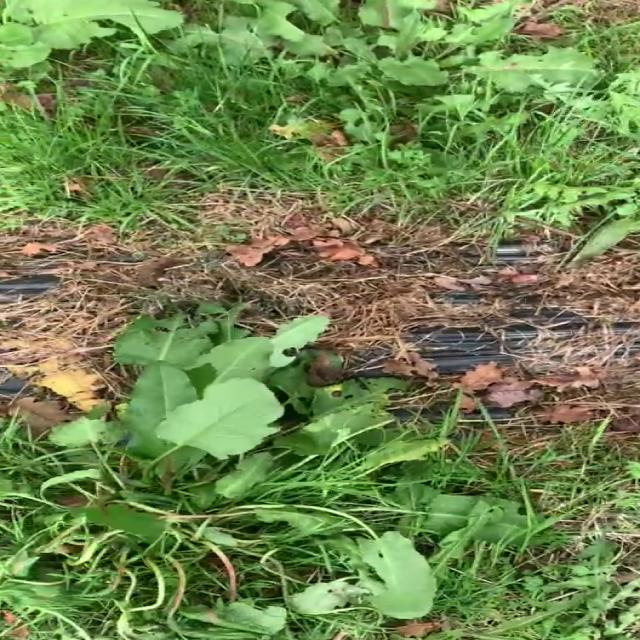organic waste: (0, 285, 600, 640), (197, 0, 640, 133), (0, 0, 181, 72)
